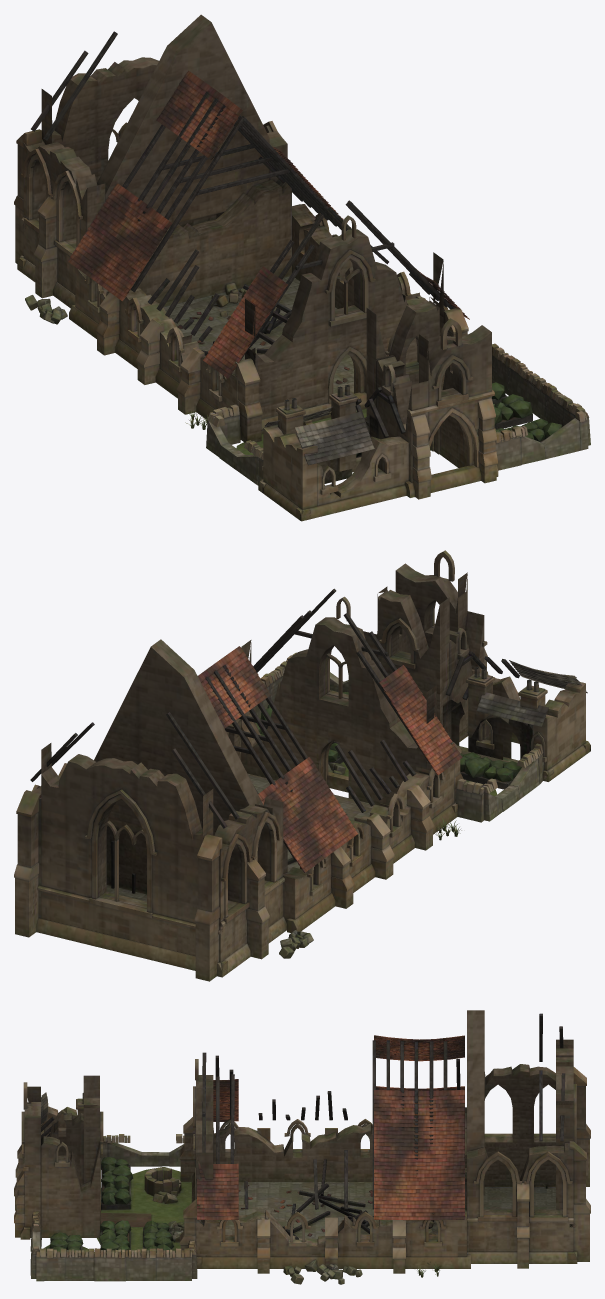
Rendered from hospital_ruin.glb.
3 renders of one model, top to bottom at view 1: azimuth 30°, elevation 25°; view 2: azimuth 150°, elevation 25°; view 3: azimuth 270°, elevation 25°, orthographic. The views are drawn at different scales.
Parts seen in each view (by area): view 1: hospital_ruin_LOD0; view 2: hospital_ruin_LOD0; view 3: hospital_ruin_LOD0.
Part boxes in pixels (box(x1,y1,x2,y2)): hospital_ruin_LOD0: box(14, 14, 590, 521); hospital_ruin_LOD0: box(14, 550, 590, 981); hospital_ruin_LOD0: box(14, 1010, 590, 1284).
Size of what is drawn, in the model's own units: 15.05 by 12.83 by 29.8.
Materials: 1 (1 with a texture image).
